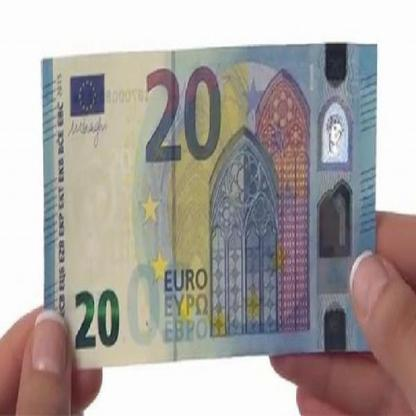billete: (39, 39, 379, 372)
